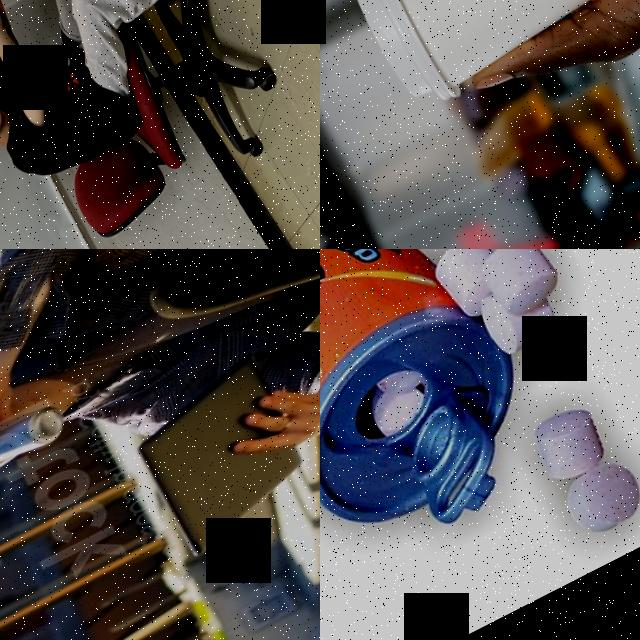can: (320, 249, 557, 590), (0, 393, 72, 483)
cup: (327, 0, 640, 119)
